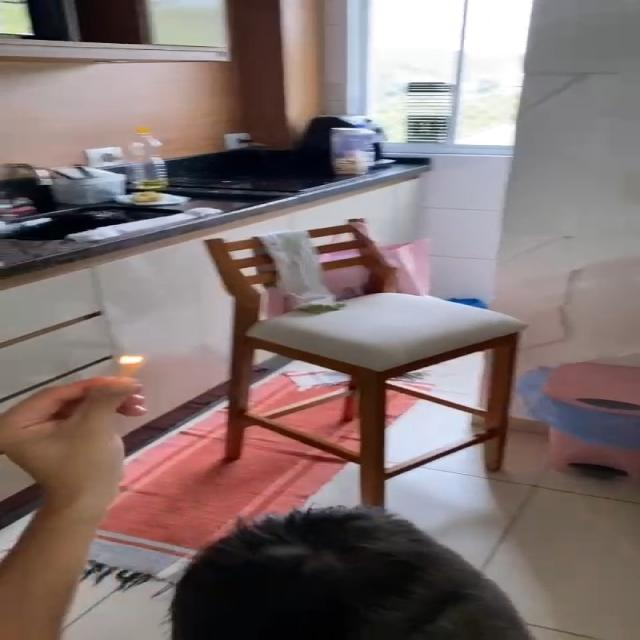fogo-ypXI: (118, 355, 146, 364)
